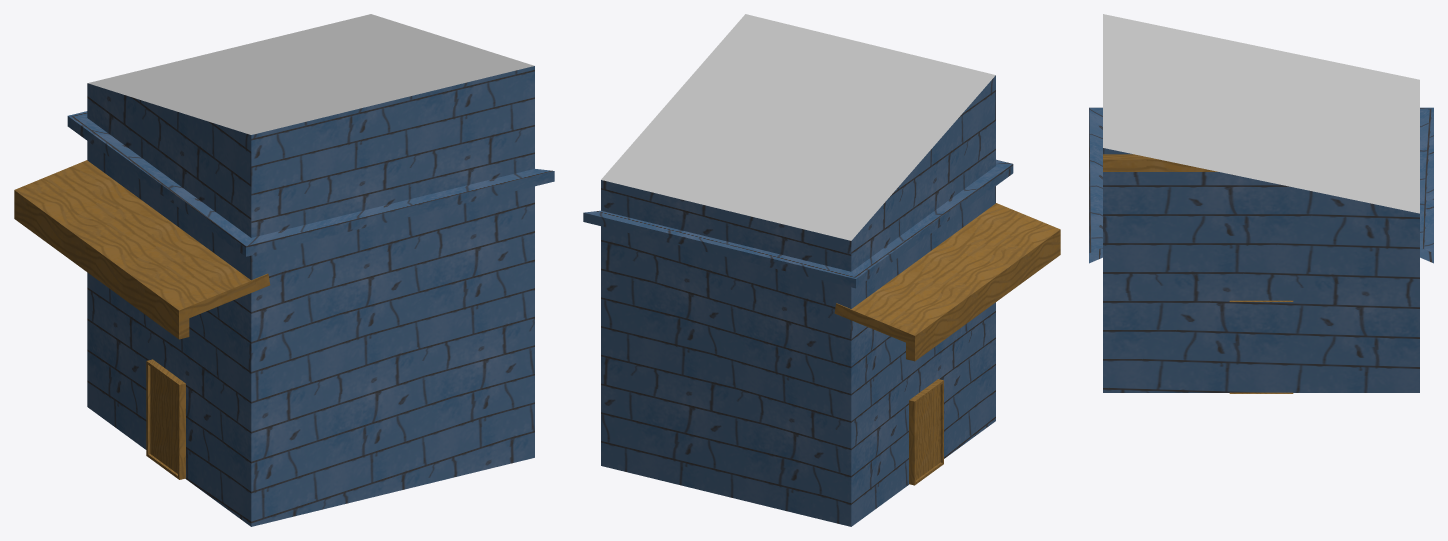
Rendered from Blocos 8.fbx.
3 views of the same model, side by side, from view 1: azimuth 30°, elevation 25°; view 2: azimuth 150°, elevation 25°; view 3: azimuth 270°, elevation 25° (orthographic). The views are drawn at different scales.
Parts seen in each view (by area): view 1: Loja3; view 2: Loja3; view 3: Loja3.
Part boxes in pixels (box(x1,y1,x2,y2)): Loja3: box(14, 14, 554, 526); Loja3: box(583, 14, 1060, 526); Loja3: box(1089, 14, 1433, 393).
Bounding box in the file's own units: 1054 × 1070 × 882.
